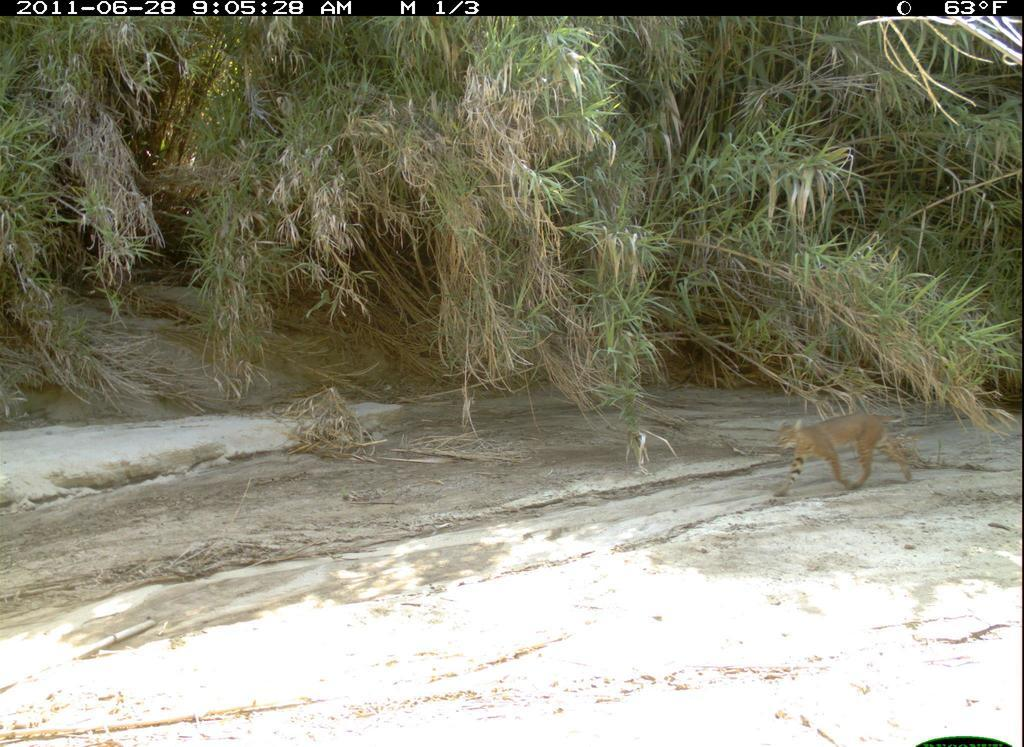bobcat: (762, 388, 952, 525)
